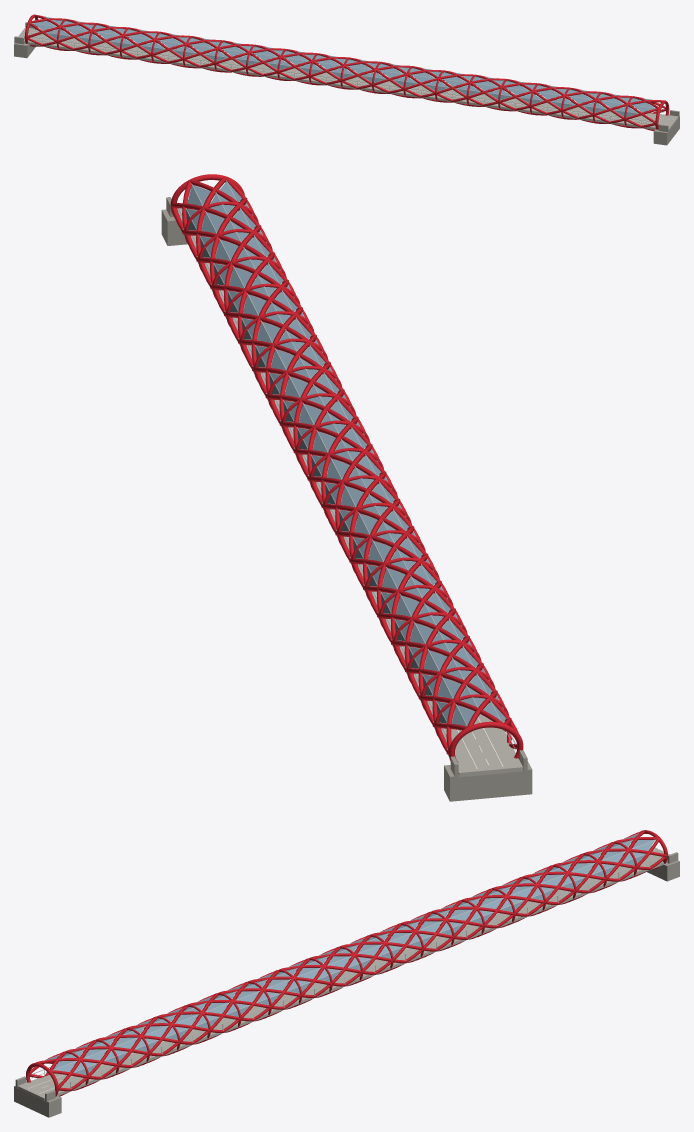
The model's file is calgary-peace-bridge-near.glb.
3 renders of one model, top to bottom at view 1: azimuth 30°, elevation 25°; view 2: azimuth 150°, elevation 25°; view 3: azimuth 270°, elevation 25°, orthographic. The views are drawn at different scales.
Parts seen in each view (by area): view 1: calgary-peace-bridge-0-steel, calgary-peace-bridge-0-glow, calgary-peace-bridge-0-deck, calgary-peace-bridge-0-rail, calgary-peace-bridge-0-concrete, calgary-peace-bridge-0-marking; view 2: calgary-peace-bridge-0-steel, calgary-peace-bridge-0-glow, calgary-peace-bridge-0-deck, calgary-peace-bridge-0-rail, calgary-peace-bridge-0-concrete; view 3: calgary-peace-bridge-0-steel, calgary-peace-bridge-0-glow, calgary-peace-bridge-0-deck, calgary-peace-bridge-0-rail, calgary-peace-bridge-0-concrete.
Boxes of the visible parts, left/top/right/bottom form: calgary-peace-bridge-0-steel: left=24, top=14, right=669, bottom=130; calgary-peace-bridge-0-glow: left=33, top=17, right=654, bottom=116; calgary-peace-bridge-0-deck: left=18, top=27, right=678, bottom=131; calgary-peace-bridge-0-rail: left=31, top=16, right=664, bottom=125; calgary-peace-bridge-0-concrete: left=14, top=22, right=679, bottom=145; calgary-peace-bridge-0-marking: left=20, top=31, right=673, bottom=125; calgary-peace-bridge-0-steel: left=170, top=174, right=523, bottom=762; calgary-peace-bridge-0-glow: left=186, top=182, right=506, bottom=725; calgary-peace-bridge-0-deck: left=177, top=201, right=522, bottom=777; calgary-peace-bridge-0-rail: left=178, top=180, right=516, bottom=750; calgary-peace-bridge-0-concrete: left=161, top=197, right=532, bottom=801; calgary-peace-bridge-0-steel: left=26, top=830, right=667, bottom=1096; calgary-peace-bridge-0-glow: left=46, top=834, right=654, bottom=1074; calgary-peace-bridge-0-deck: left=17, top=846, right=669, bottom=1101; calgary-peace-bridge-0-rail: left=31, top=833, right=660, bottom=1088; calgary-peace-bridge-0-concrete: left=14, top=852, right=679, bottom=1117.
Size of the model in its own units: 93.46 by 6.95 by 102.
